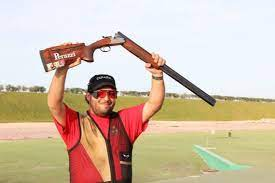weapon: (40, 33, 218, 106)
